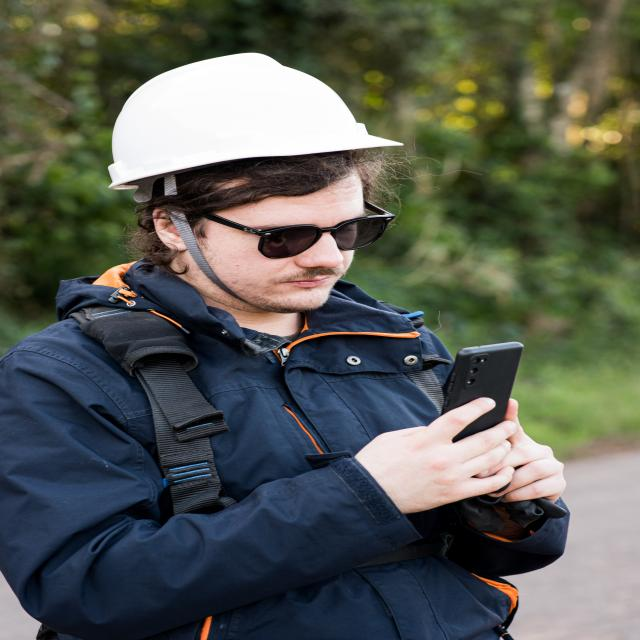capacete: (101, 51, 408, 192)
corda de vida: (58, 286, 531, 640)
